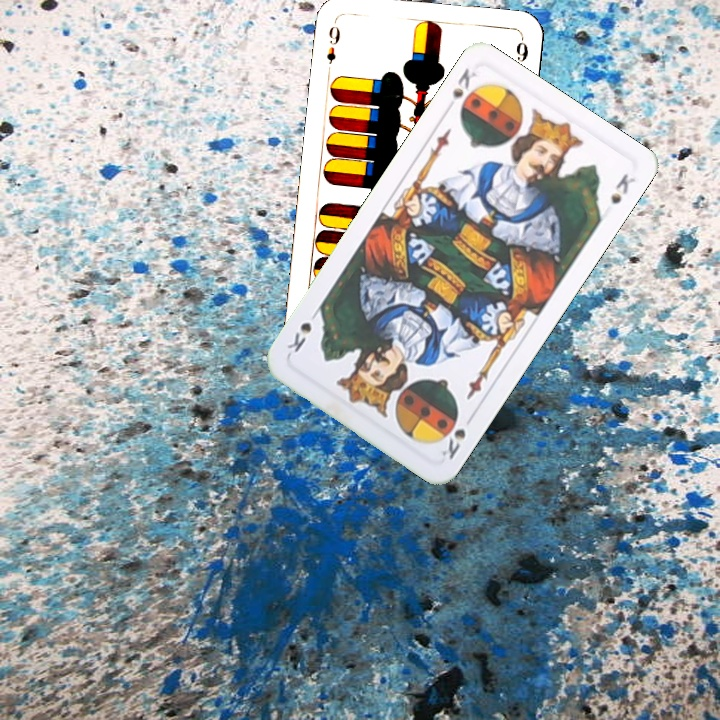E9: (323, 17, 343, 67)
SK: (443, 64, 479, 116), (437, 410, 469, 463)
